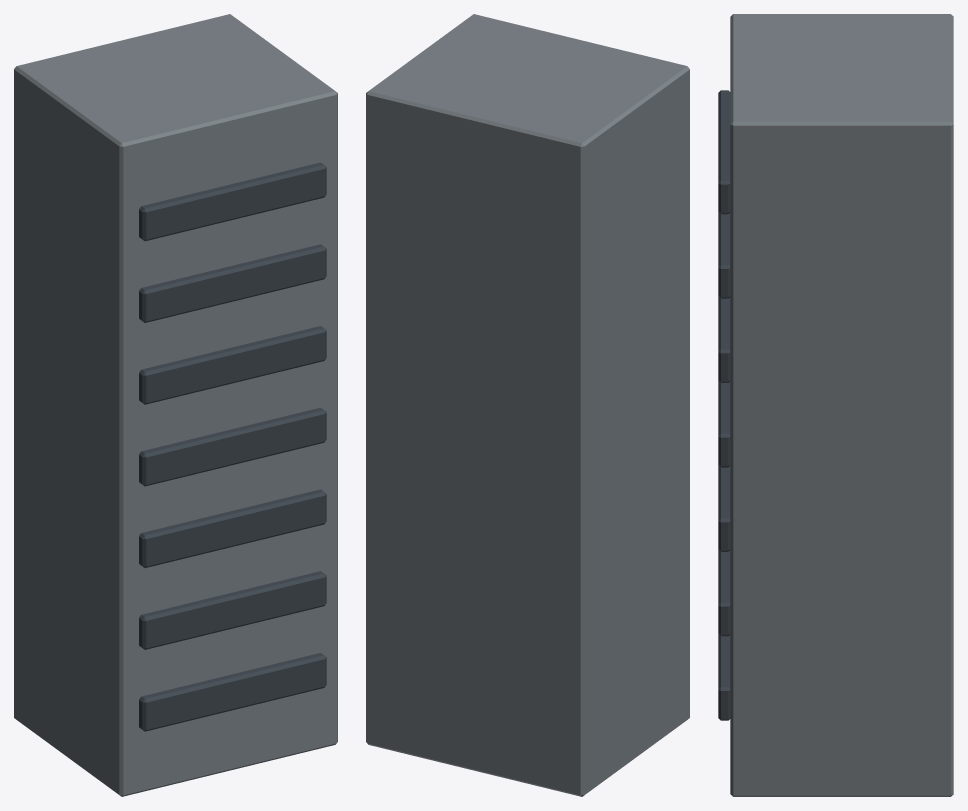
File: VentilationCabinet.fbx
The picture shows the model from 3 angles, left to right: view 1: azimuth 30°, elevation 25°; view 2: azimuth 150°, elevation 25°; view 3: azimuth 270°, elevation 25°; orthographic projection. The views are drawn at different scales.
Parts seen in each view (by area): view 1: VentilationCabinet; view 2: VentilationCabinet; view 3: VentilationCabinet.
Part boxes in pixels (<box>): VentilationCabinet: <box>14,14,337,796</box>; VentilationCabinet: <box>366,14,689,796</box>; VentilationCabinet: <box>718,14,953,796</box>.
Bounding box in the file's own units: 70 × 200 × 63.25.
1 material, 1 textured.
